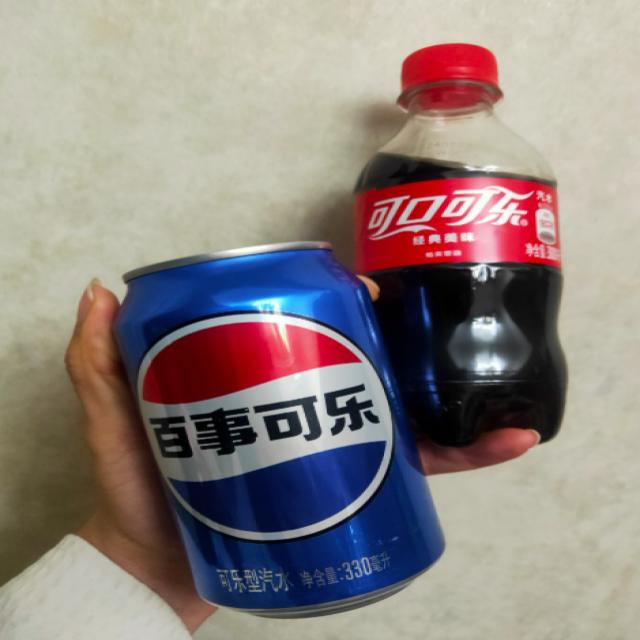bottle: (347, 38, 572, 446)
can: (112, 237, 450, 620)
